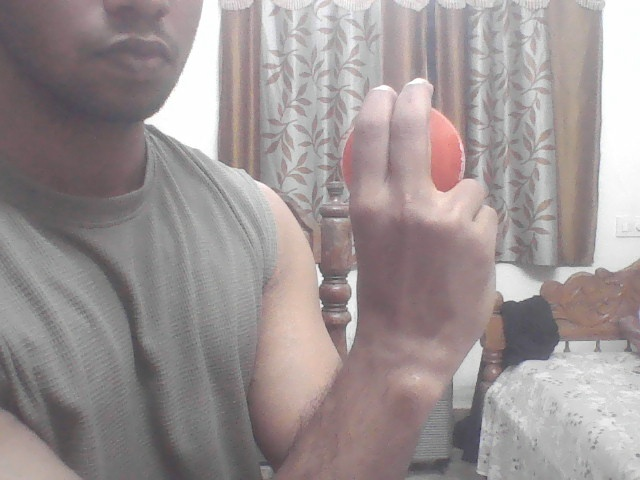cricket_ball: (337, 109, 466, 192)
